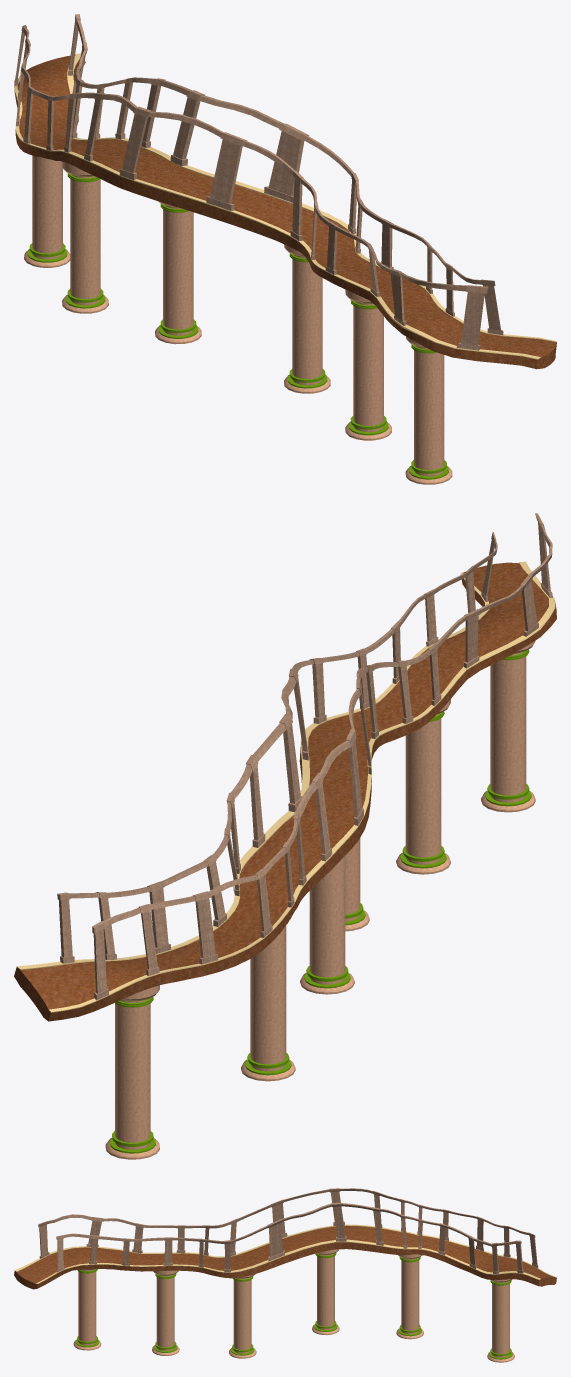
File: Puente1.fbx
The picture shows the model from 3 angles, top to bottom: view 1: azimuth 30°, elevation 25°; view 2: azimuth 150°, elevation 25°; view 3: azimuth 270°, elevation 25°; orthographic projection. The views are drawn at different scales.
Visible parts, largest first — view 1: Cylinder.011; view 2: Cylinder.011; view 3: Cylinder.011.
Boxes of the visible parts, <box> form: Cylinder.011: <box>14,14,556,484</box>; Cylinder.011: <box>14,513,556,1159</box>; Cylinder.011: <box>14,1188,556,1362</box>.
Size of the model in its own units: 2016 by 2819 by 8857.
2 materials, 2 textured.
